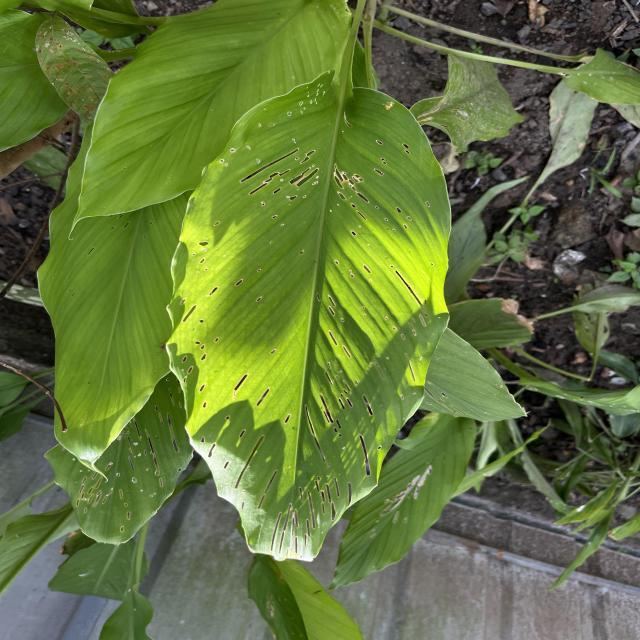Curcuma longa: (163, 68, 456, 566), (66, 0, 354, 241), (31, 64, 185, 487)
